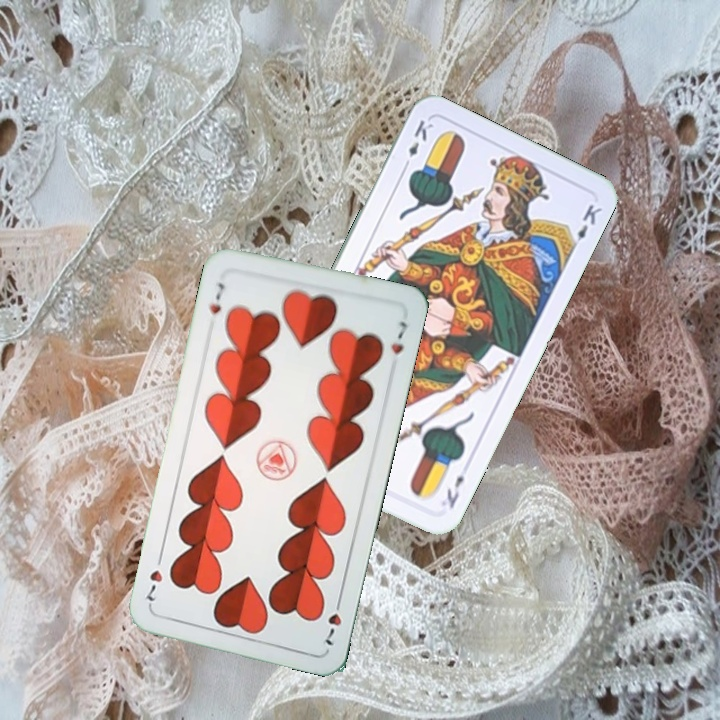EK: (399, 116, 436, 172), (442, 471, 467, 511)
H7: (318, 592, 344, 648), (205, 278, 227, 316)
